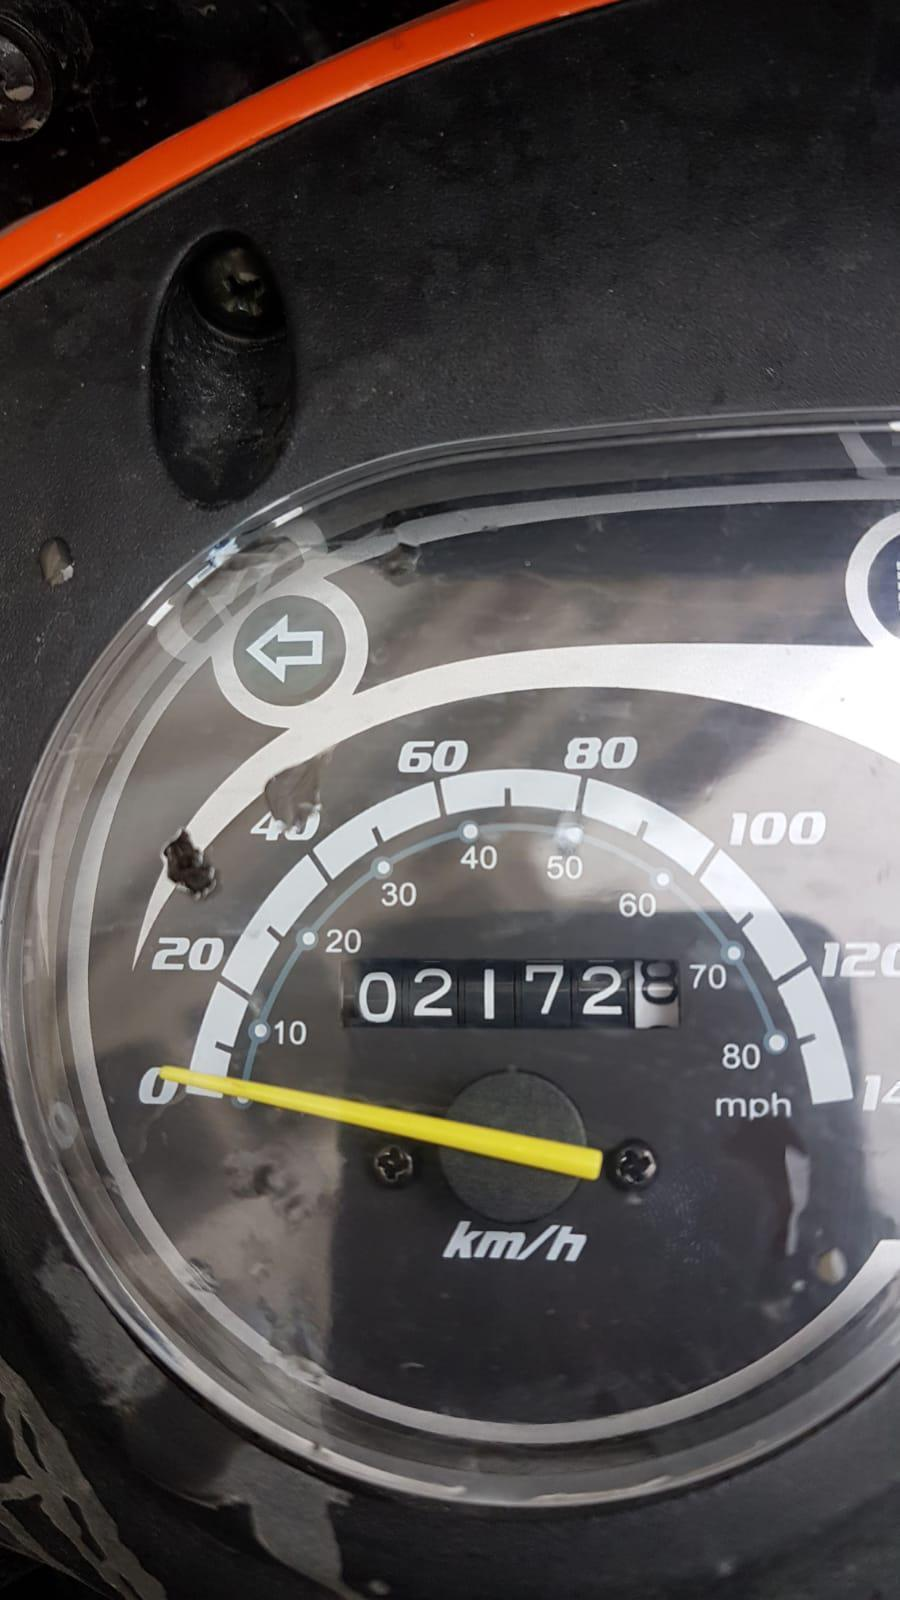0: (355, 965, 400, 1027)
1: (474, 962, 505, 1026)
2: (409, 958, 456, 1026), (582, 960, 627, 1023)
7: (521, 959, 568, 1016), (690, 962, 708, 991)
8: (638, 956, 679, 1010)
odometer: (341, 949, 701, 1036)
